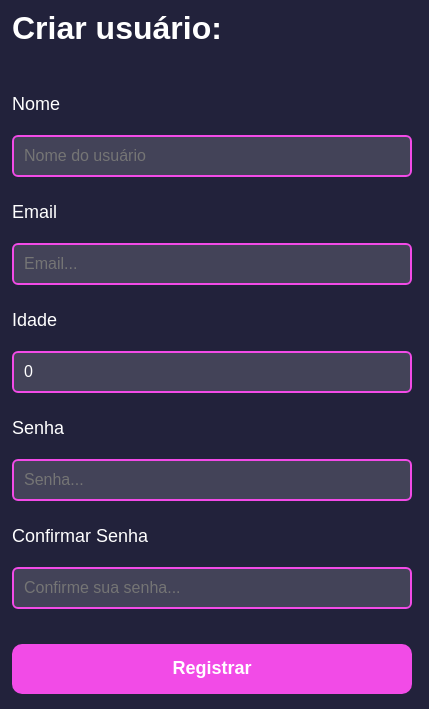
Test: Componente RegisterForm › mostrar mensagem de erro para email inválido
Step 1. Type "Password123!" into the password field with test id "password-input" → coordinates (212, 480), box [12,459,412,501]
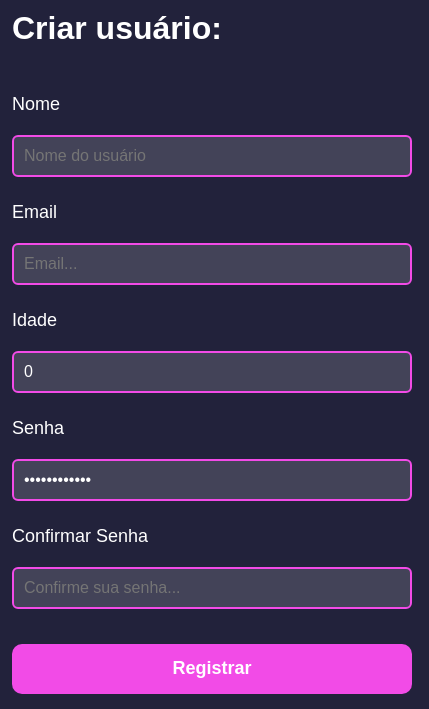
Step 2. Type "Password123" into the password field with test id "confirmPassword-input" → coordinates (212, 588), box [12,567,412,609]
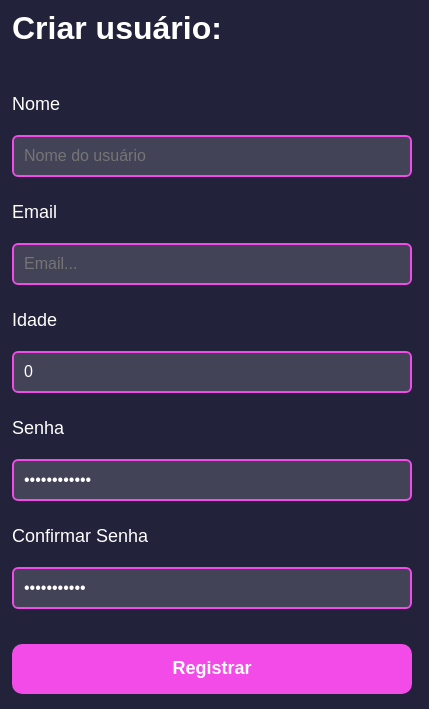
Step 3. Click the button with test id "submit-button" → coordinates (212, 669), box [12,644,412,694]
(page scrolled)
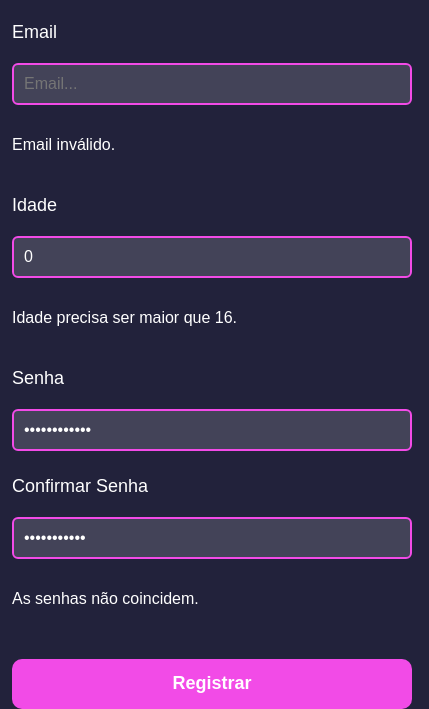
Check: the text with test id "error-confirmPassword" reads "As senhas não coincidem.", box [12,590,199,607]
